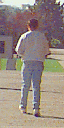person: (14, 20, 48, 122)
